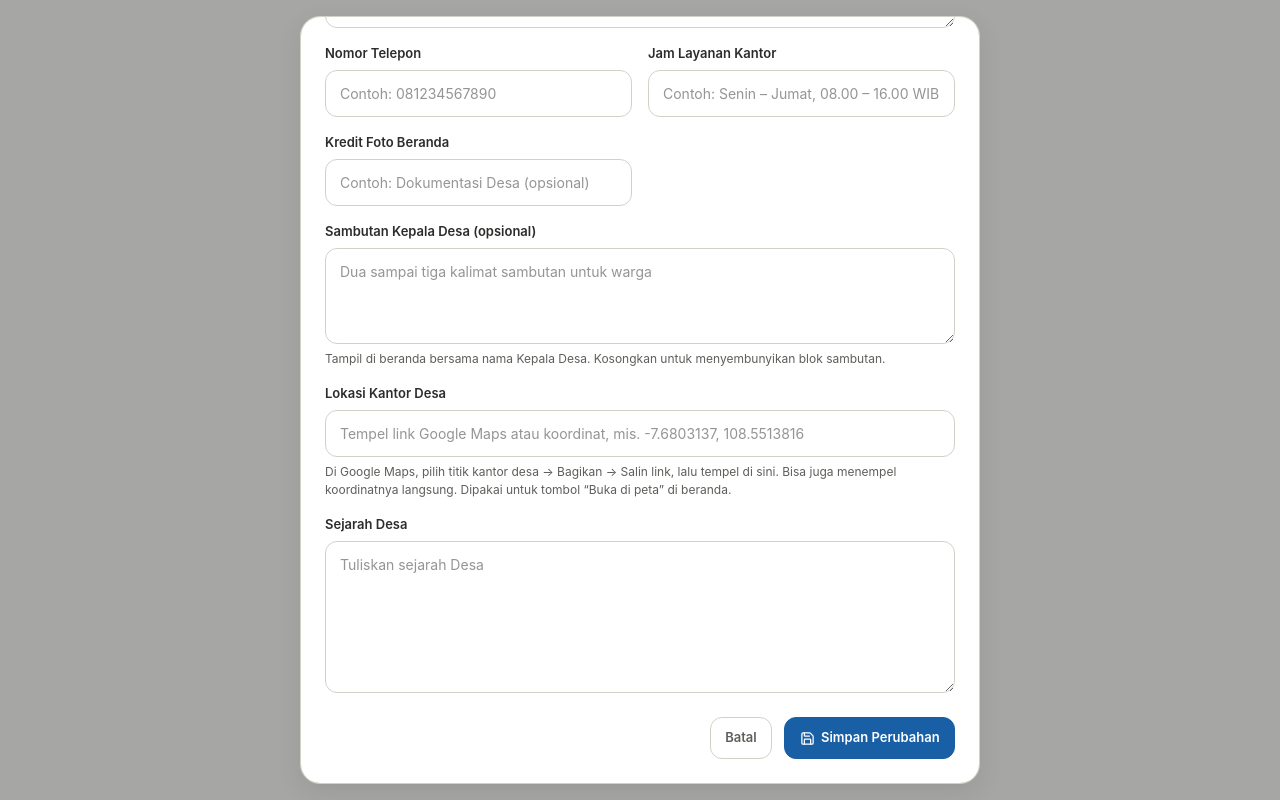
Test: EditProfilDesaModal - lokasi kantor desa › rejects text that is neither a link nor coordinates
(page scrolled)
Click the field labelled "Lokasi Kantor Desa". click: coordinates (640, 434)
box: [325,410,955,457]
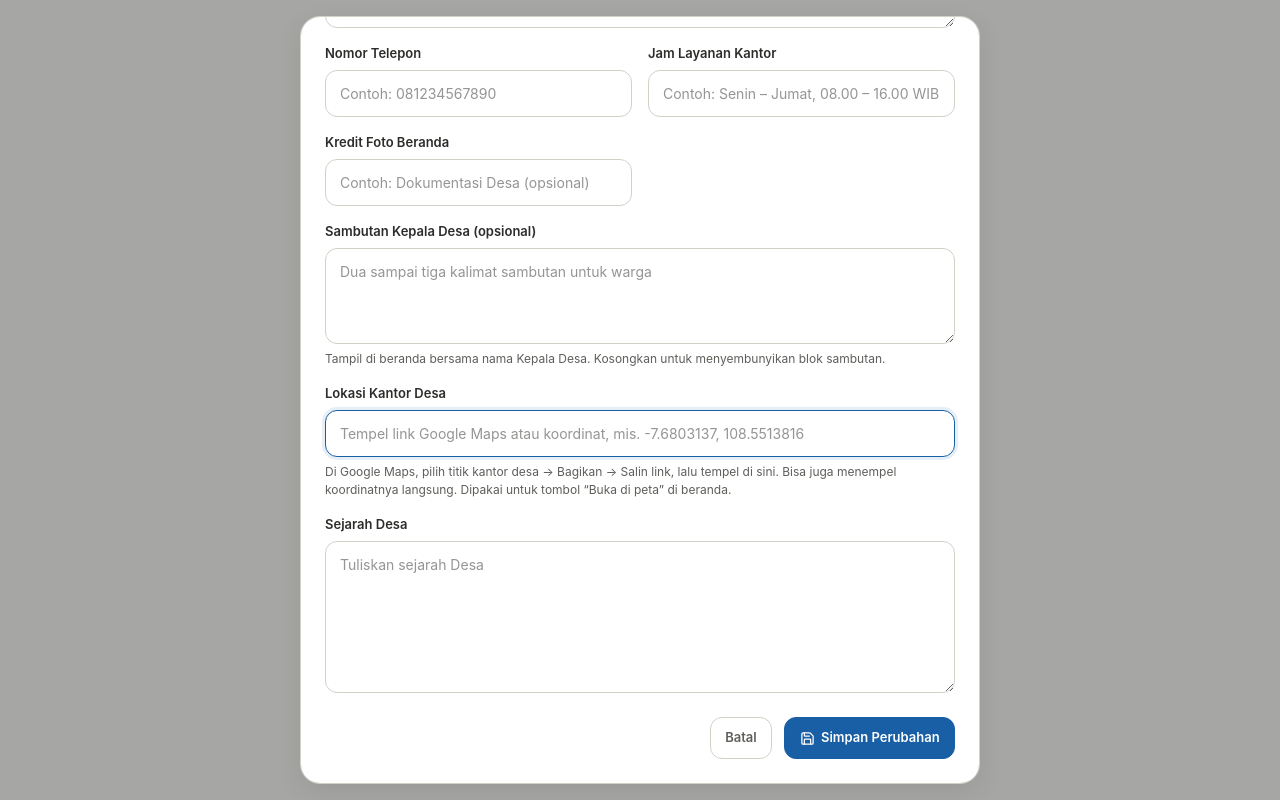
Type keys "kantor desa"
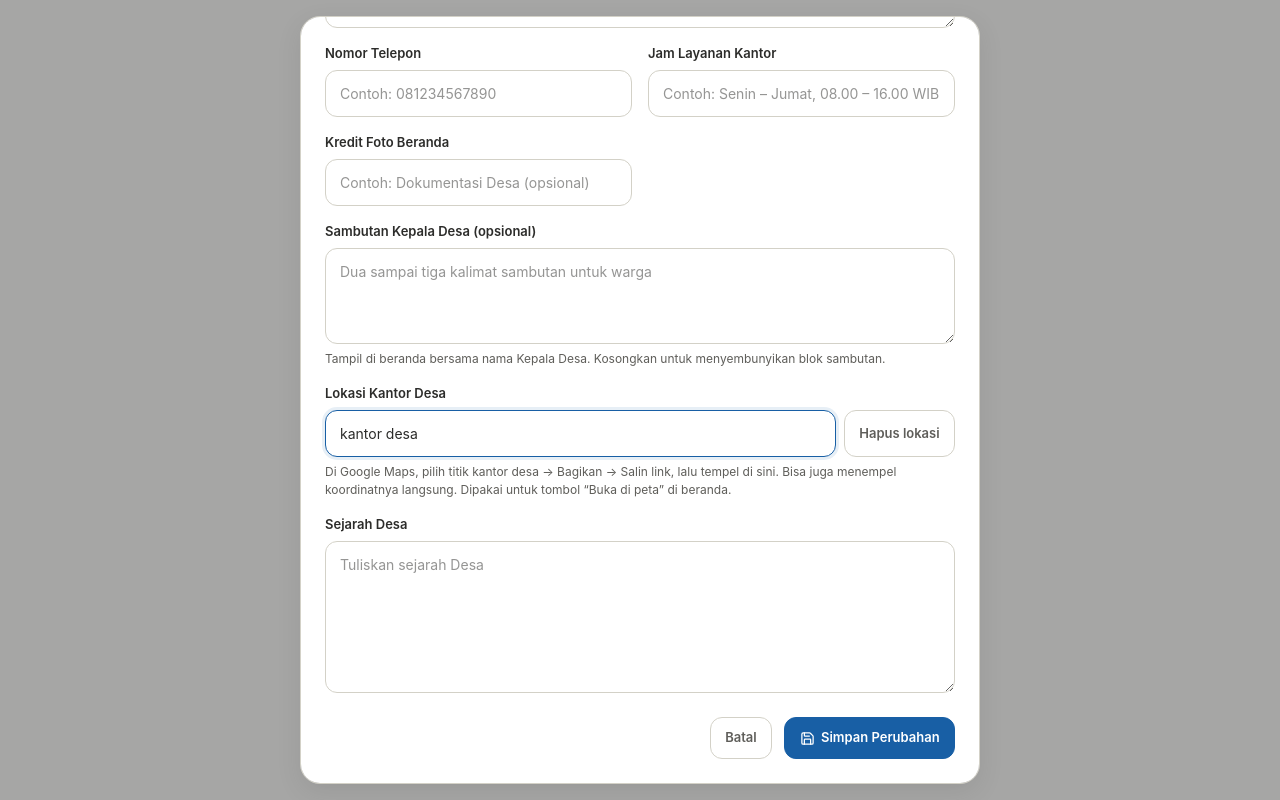
Click the button "Simpan Perubahan". click: coordinates (870, 738)
box: [784,717,955,759]
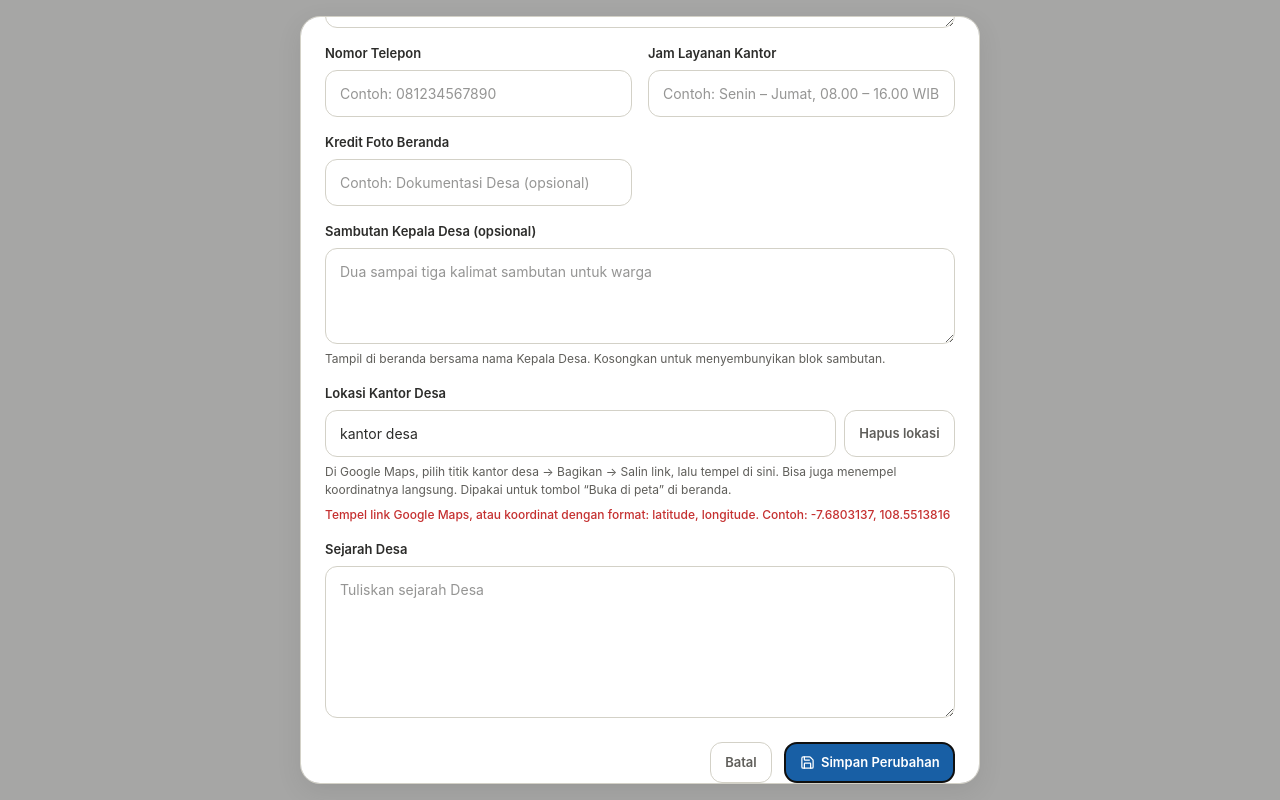
Result: the message shows "Tempel link Google Maps" at [325,507,950,522]
